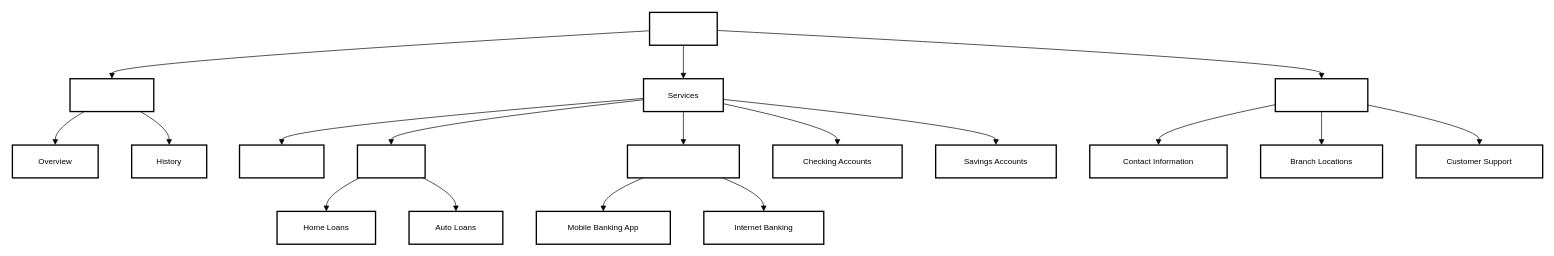
Some shapes in this 1554 by 256 pixel diagram are drawn without their labels. The shapes that lost their labels are listed below. From the top down, each one's centre as x and y in pixels, then its label:
At (683,28): "Home".
At (111,95): "About Us".
At (1321,95): "Contact Us".
At (281,161): "Accounts".
At (390,161): "Loans".
At (683,161): "Online Banking".
